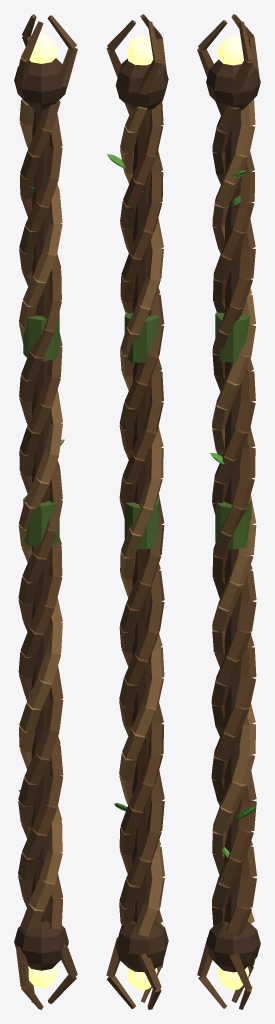
Rendered from roots_quarterstaff.glb.
3 views of the same model, side by side, from view 1: azimuth 90°, elevation 25°; view 2: azimuth 150°, elevation 25°; view 3: azimuth 270°, elevation 25° (orthographic).
Visible parts, largest first — view 1: roots_quarterstaff; view 2: roots_quarterstaff; view 3: roots_quarterstaff.
Part boxes in pixels (x1,y1,x2,y2): roots_quarterstaff: (14,14,77,1009); roots_quarterstaff: (106,14,168,1009); roots_quarterstaff: (197,14,260,1009).
Size of the model in its own units: 0.1436 by 2.39 by 0.1395.
